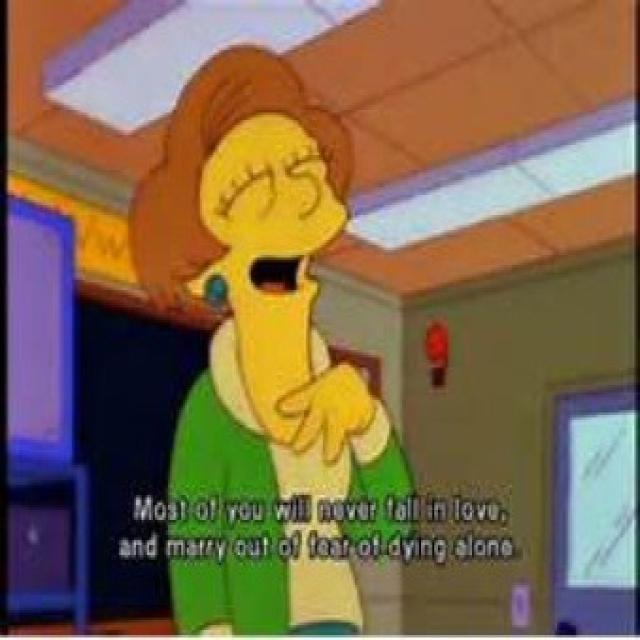Edna Krappel: (124, 45, 358, 350)
